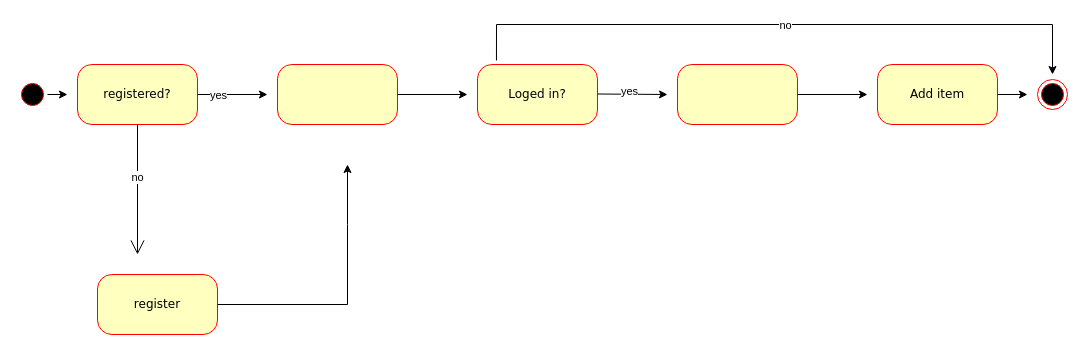
This 1085x352 diagram has some shape labels left out. Here are the shapes that lost their labels. From the top down, the centre of each, then its label:
At point (337, 94): "Log in".
At point (737, 94): "go to the 'Overview' page".
